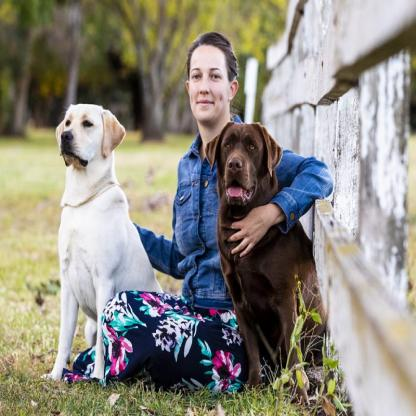Labarador Retriever: (199, 119, 329, 400), (51, 105, 162, 380)
